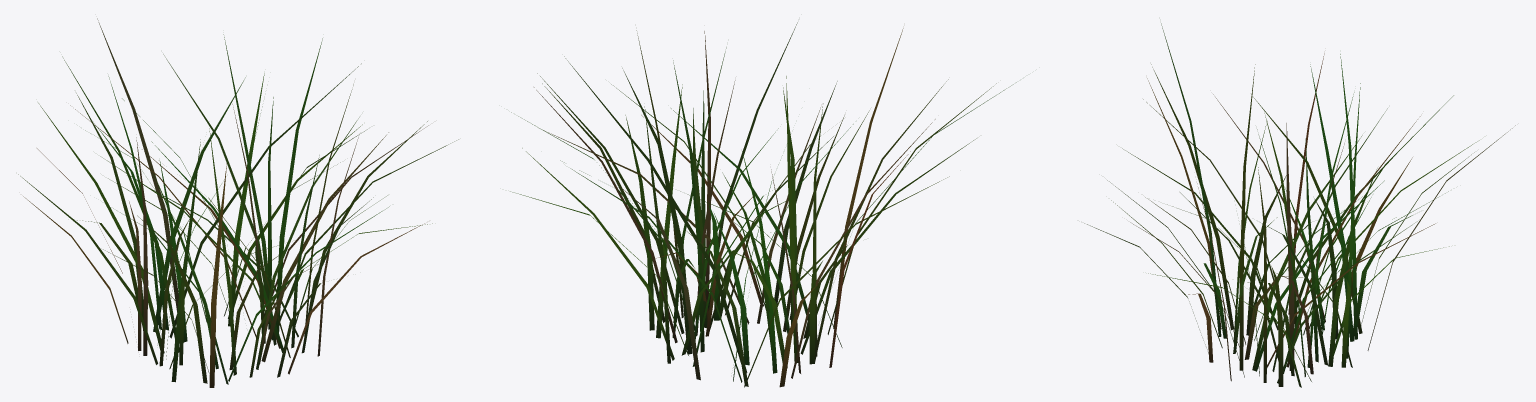
Rendered from RoadsideGrass_Lite.fbx.
3 views of the same model, side by side, from view 1: azimuth 30°, elevation 25°; view 2: azimuth 150°, elevation 25°; view 3: azimuth 270°, elevation 25° (orthographic). The views are drawn at different scales.
Visible parts, largest first — view 1: RoadsideGrass_Lite; view 2: RoadsideGrass_Lite; view 3: RoadsideGrass_Lite.
Boxes of the visible parts, x1,y1,x2,y2 form: RoadsideGrass_Lite: (18,18,458,387); RoadsideGrass_Lite: (510,22,1016,387); RoadsideGrass_Lite: (1084,23,1515,387).
Size of the model in its own units: 56.8 by 35.65 by 55.22.
